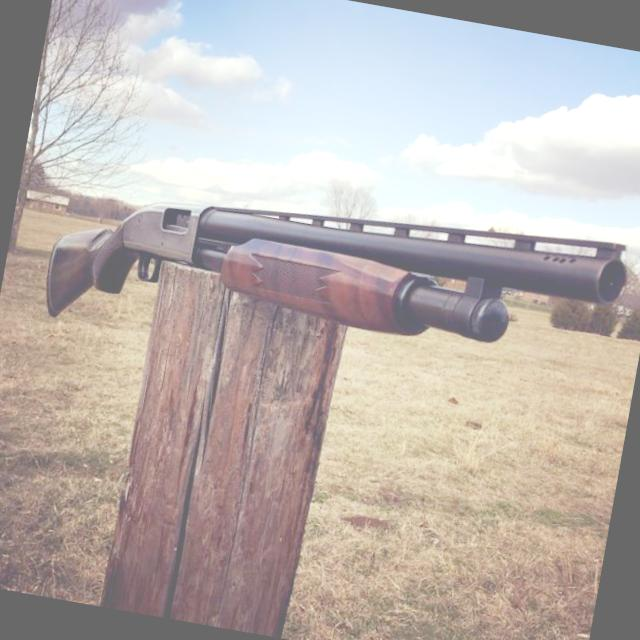shotgun: (24, 131, 640, 432)
